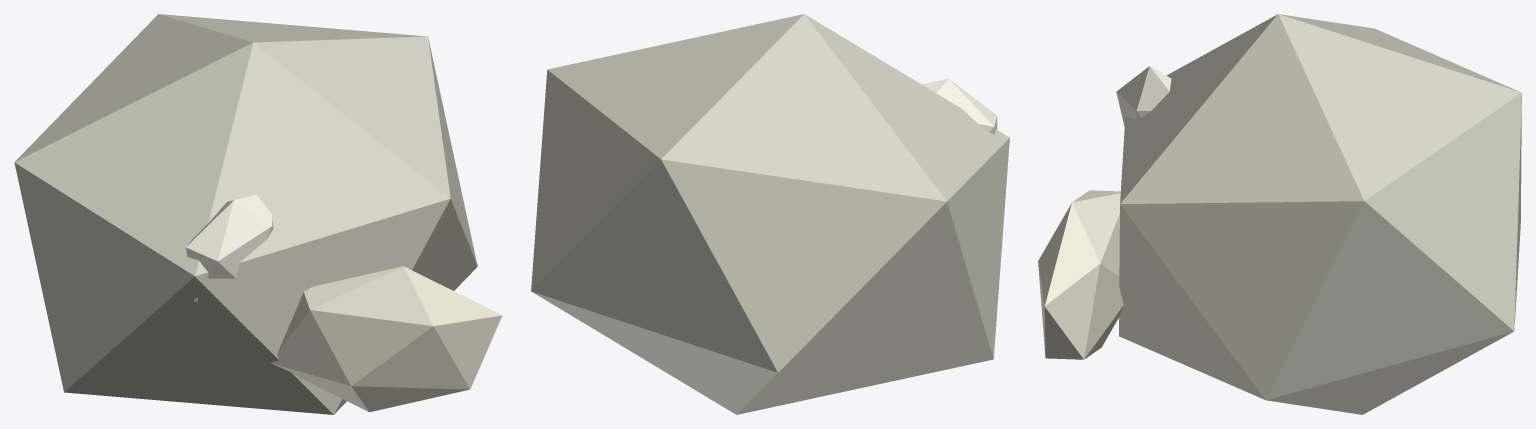
The model's file is drop_limestone_ore.glb.
3 views of the same model, side by side, from view 1: azimuth 30°, elevation 25°; view 2: azimuth 150°, elevation 25°; view 3: azimuth 270°, elevation 25° (orthographic). The views are drawn at different scales.
Visible parts, largest first — view 1: DroppedOreRock, DroppedOreVein, DroppedOreHighlight; view 2: DroppedOreRock, DroppedOreHighlight; view 3: DroppedOreRock, DroppedOreVein, DroppedOreHighlight.
Part boxes in pixels (box(x1,y1,x2,y2)): DroppedOreRock: box(14, 14, 477, 414); DroppedOreVein: box(270, 266, 502, 412); DroppedOreHighlight: box(186, 194, 273, 302); DroppedOreRock: box(531, 14, 1009, 414); DroppedOreHighlight: box(922, 78, 997, 134); DroppedOreRock: box(1119, 14, 1521, 414); DroppedOreVein: box(1038, 190, 1123, 359); DroppedOreHighlight: box(1116, 66, 1171, 126).
Bounding box in the file's own units: 0.3196 × 0.2838 × 0.3211.
